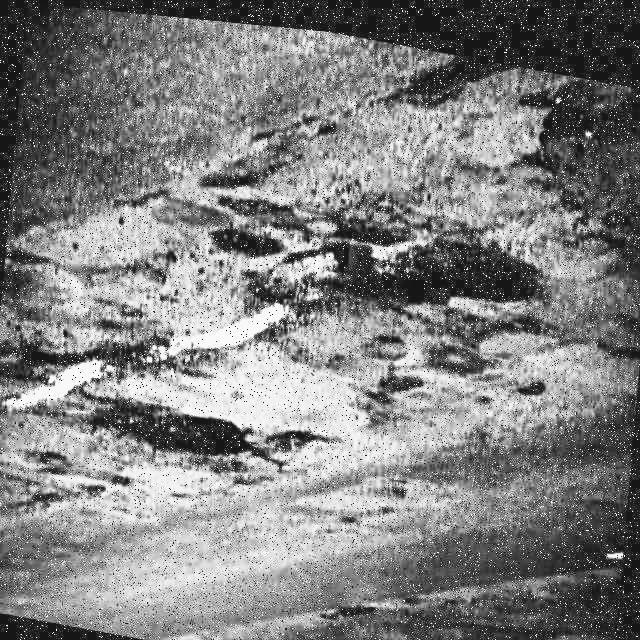Pothole: (243, 163, 543, 349), (89, 389, 257, 468)
